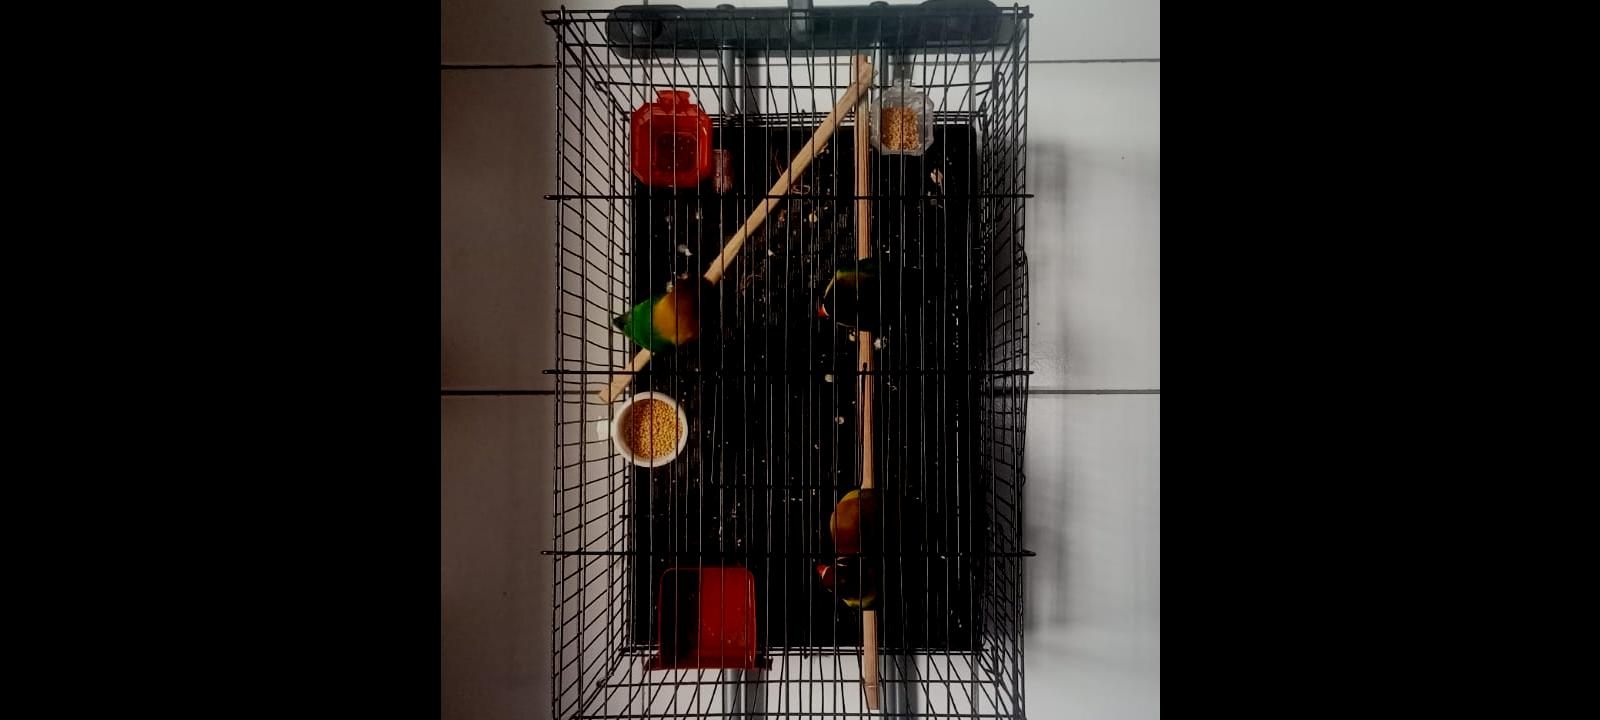LoveBird: (816, 256, 951, 330), (831, 486, 951, 559), (816, 549, 952, 612), (608, 275, 711, 356)
